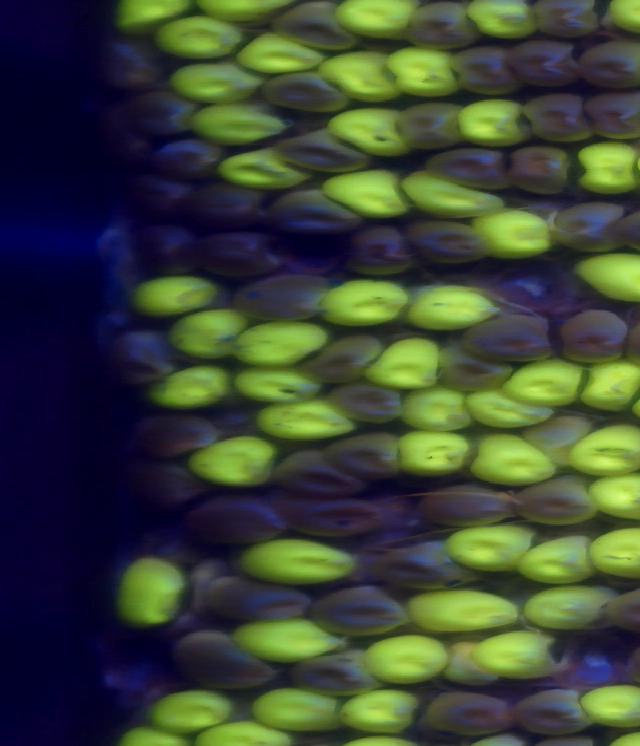fluorescent: (235, 536, 356, 587), (108, 556, 190, 630), (398, 168, 507, 223), (362, 333, 448, 400), (398, 588, 525, 633), (226, 613, 342, 660), (191, 102, 305, 149), (186, 432, 280, 489), (397, 283, 502, 333), (471, 627, 565, 682), (317, 50, 405, 108), (234, 319, 331, 371), (319, 108, 417, 159), (243, 687, 347, 735), (141, 362, 238, 413), (458, 383, 558, 432), (473, 431, 556, 490), (444, 521, 538, 572), (359, 633, 452, 684), (320, 278, 412, 329), (255, 401, 360, 445), (503, 356, 585, 411), (391, 426, 472, 480), (164, 61, 268, 103), (230, 362, 327, 407), (565, 420, 640, 478), (562, 249, 640, 304), (324, 169, 408, 219), (514, 532, 598, 582), (167, 306, 249, 357), (528, 581, 615, 629), (232, 34, 329, 76), (216, 144, 308, 188), (571, 141, 640, 199), (333, 1, 423, 45), (147, 686, 236, 729), (339, 687, 424, 732), (474, 206, 553, 254), (577, 356, 640, 416), (454, 97, 529, 147), (153, 19, 244, 60), (389, 49, 462, 100), (401, 383, 476, 432), (131, 276, 218, 317), (571, 679, 640, 730), (585, 525, 640, 580), (103, 1, 194, 34), (467, 1, 545, 37), (192, 720, 296, 746), (588, 472, 640, 523), (195, 1, 295, 22), (605, 1, 640, 34)
nonfluorescent: (170, 627, 281, 693), (273, 485, 386, 539), (312, 578, 412, 638), (198, 570, 311, 622), (228, 271, 335, 323), (184, 492, 286, 546), (412, 482, 518, 531), (256, 186, 364, 233), (513, 471, 601, 527), (272, 2, 368, 53), (548, 201, 635, 256), (369, 545, 477, 589), (404, 214, 490, 269), (445, 44, 528, 99), (126, 409, 221, 457), (272, 449, 371, 495), (519, 89, 598, 146), (462, 313, 555, 361), (503, 39, 588, 91), (187, 232, 283, 278), (423, 687, 515, 735), (323, 431, 405, 484), (286, 650, 378, 696), (425, 148, 515, 194), (556, 310, 625, 370), (307, 333, 388, 384), (129, 223, 205, 277), (94, 99, 155, 166), (405, 1, 482, 54), (273, 130, 375, 170), (128, 459, 207, 510), (261, 70, 352, 113), (509, 689, 596, 733), (105, 332, 180, 383), (435, 343, 511, 393), (509, 141, 577, 195), (395, 103, 468, 153), (129, 89, 197, 142), (332, 376, 400, 429), (95, 32, 158, 89), (180, 179, 264, 221), (348, 223, 413, 277), (128, 166, 195, 218), (578, 36, 640, 91), (150, 133, 220, 180), (528, 1, 606, 42), (583, 88, 640, 142), (608, 577, 640, 638)
